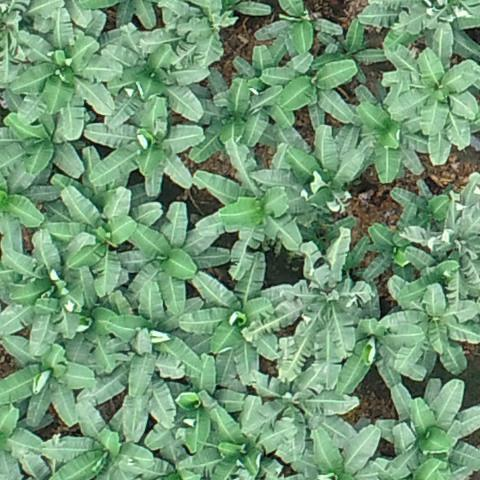Banana-plant: (243, 228, 371, 379), (188, 139, 319, 283), (0, 4, 119, 143), (44, 181, 167, 298), (381, 24, 480, 167), (112, 203, 235, 316), (0, 231, 106, 361), (96, 282, 212, 394), (369, 266, 480, 381), (84, 93, 206, 196), (95, 35, 211, 137), (369, 377, 480, 480), (240, 360, 364, 452), (174, 389, 296, 480), (324, 83, 429, 186), (0, 329, 99, 433), (403, 172, 480, 298), (180, 76, 284, 165), (275, 126, 374, 214), (260, 52, 366, 132), (0, 140, 67, 266), (131, 0, 241, 75), (359, 0, 480, 63), (0, 94, 87, 181), (251, 0, 349, 71), (281, 419, 383, 480), (307, 15, 390, 86), (388, 177, 449, 235)
